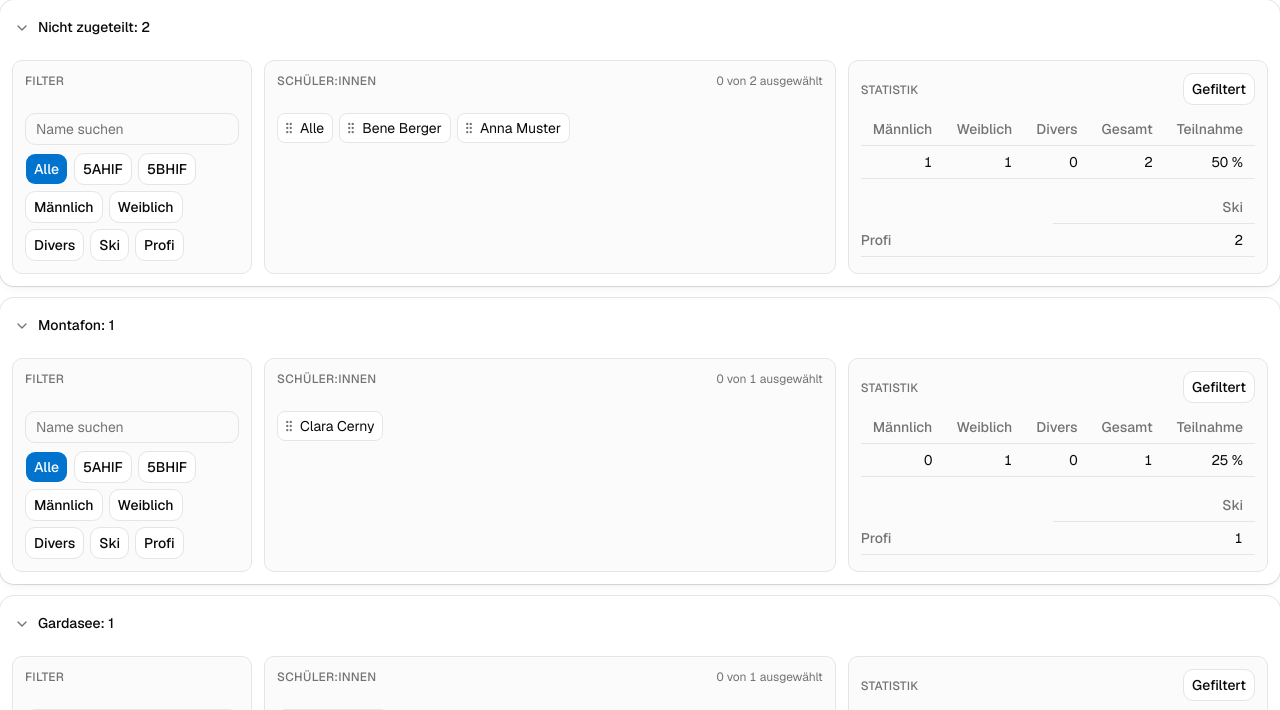
Test: AssignmentBoard › counts only the students the filter leaves
The image size is (1280, 710).
Click the button "Anna Muster" at (522, 128), box [476,114,569,142]
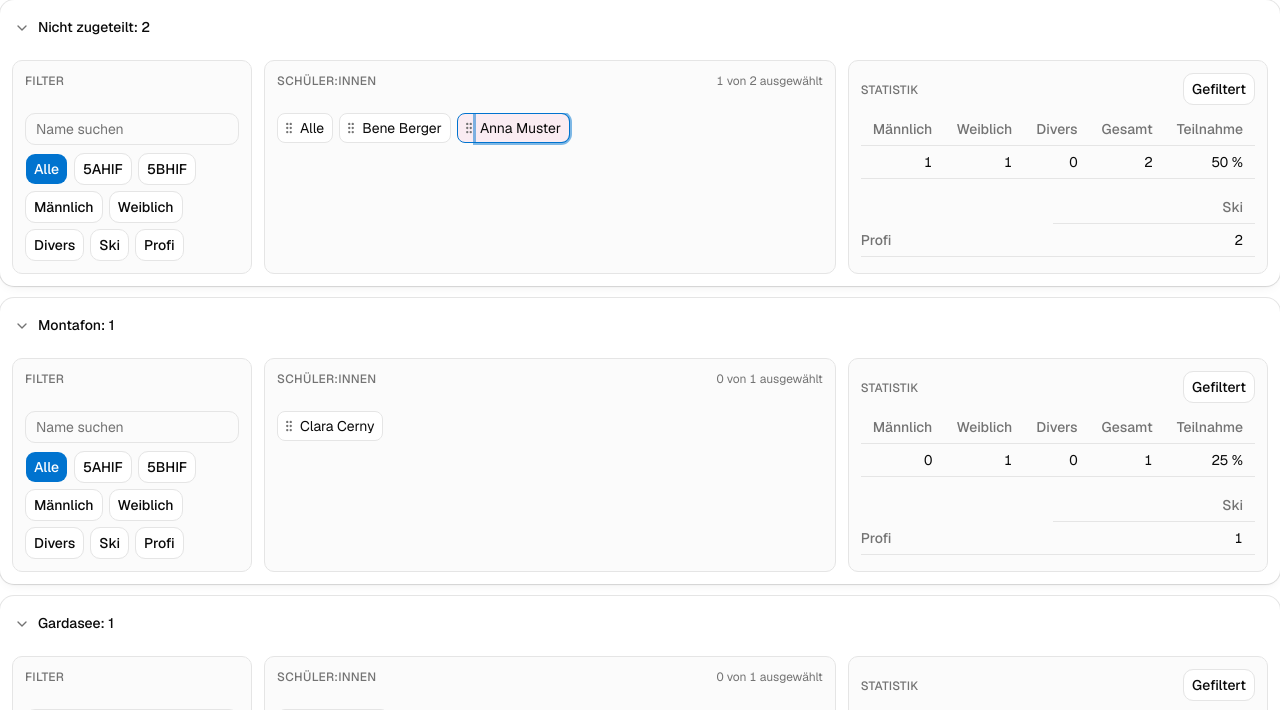
Click the button with aria-label "Klasse: 5BHIF" at (167, 169), box [145,159,189,179]
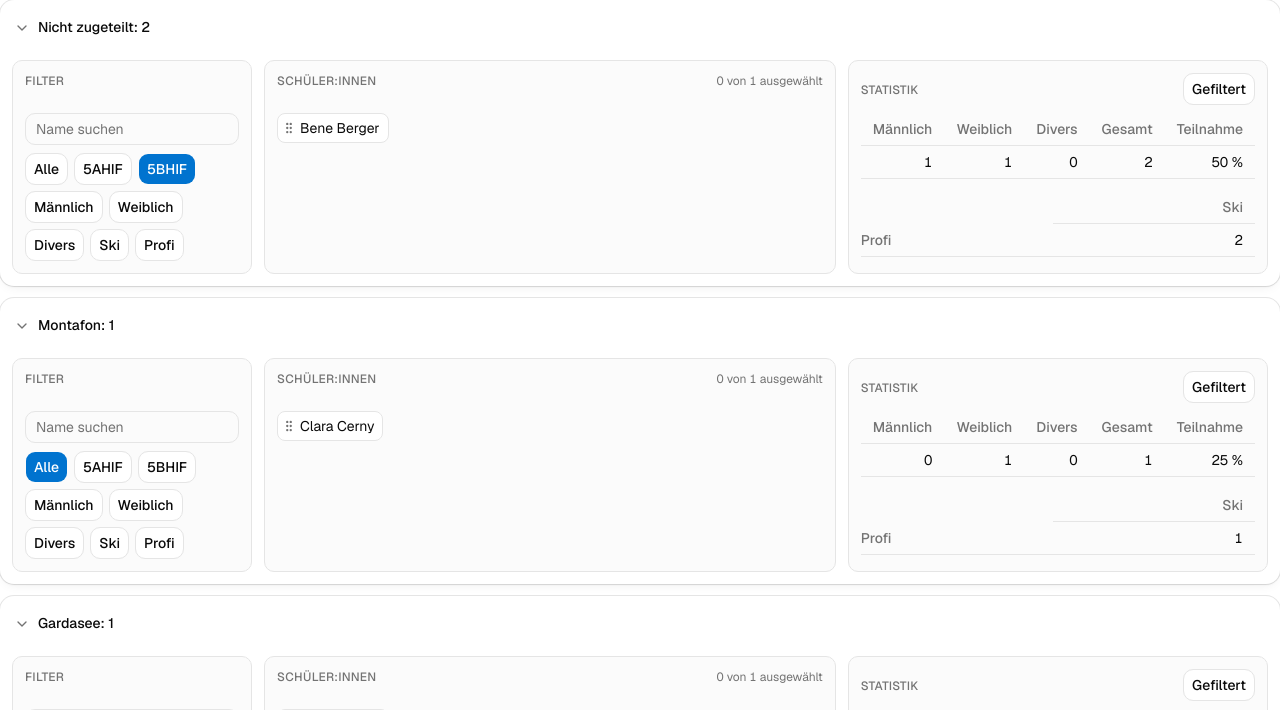
Check: the 1st text "0 von 1 ausgewählt" is shown, box [716,73,823,89]
